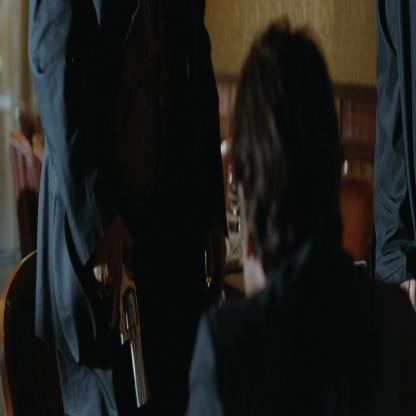gun: (117, 266, 154, 416)
